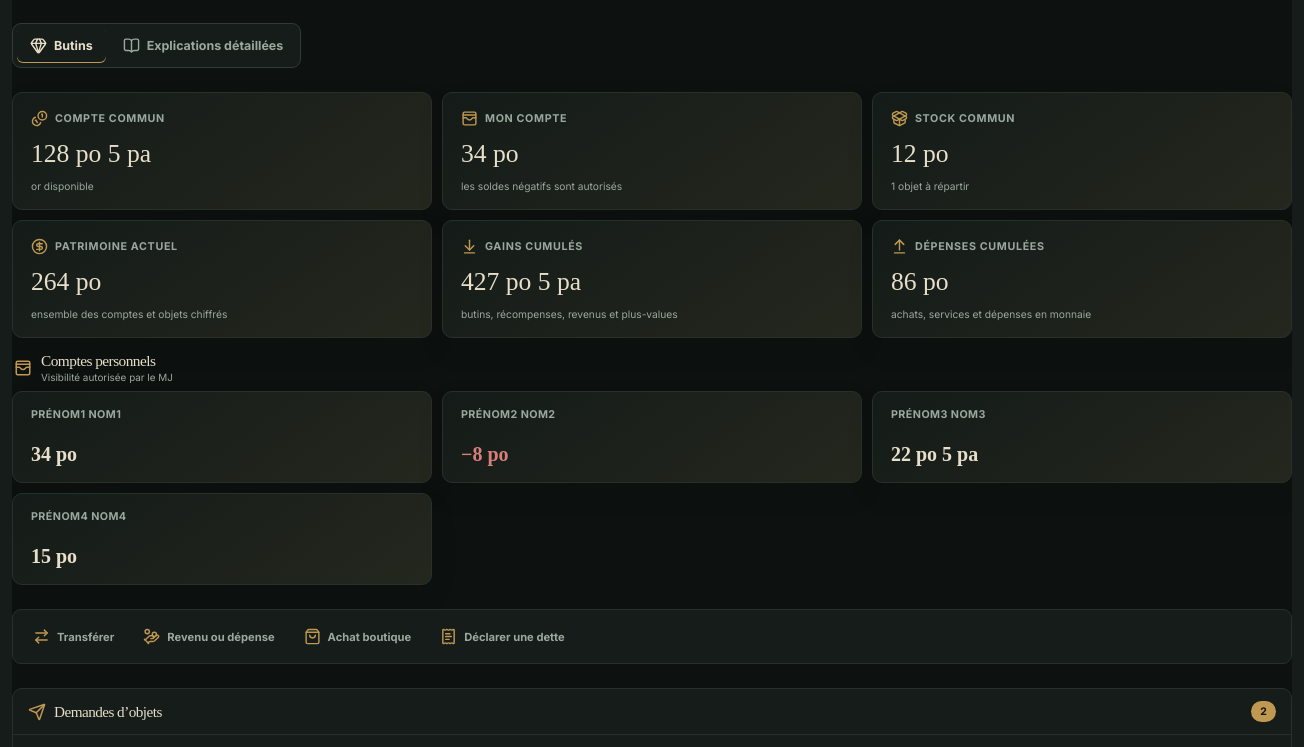
maintient le joueur connecté dans toute dette qu’il déclare
The image size is (1304, 747).
Click the button "Déclarer une dette" at (502, 636), box [429, 619, 576, 654]
(page scrolled)
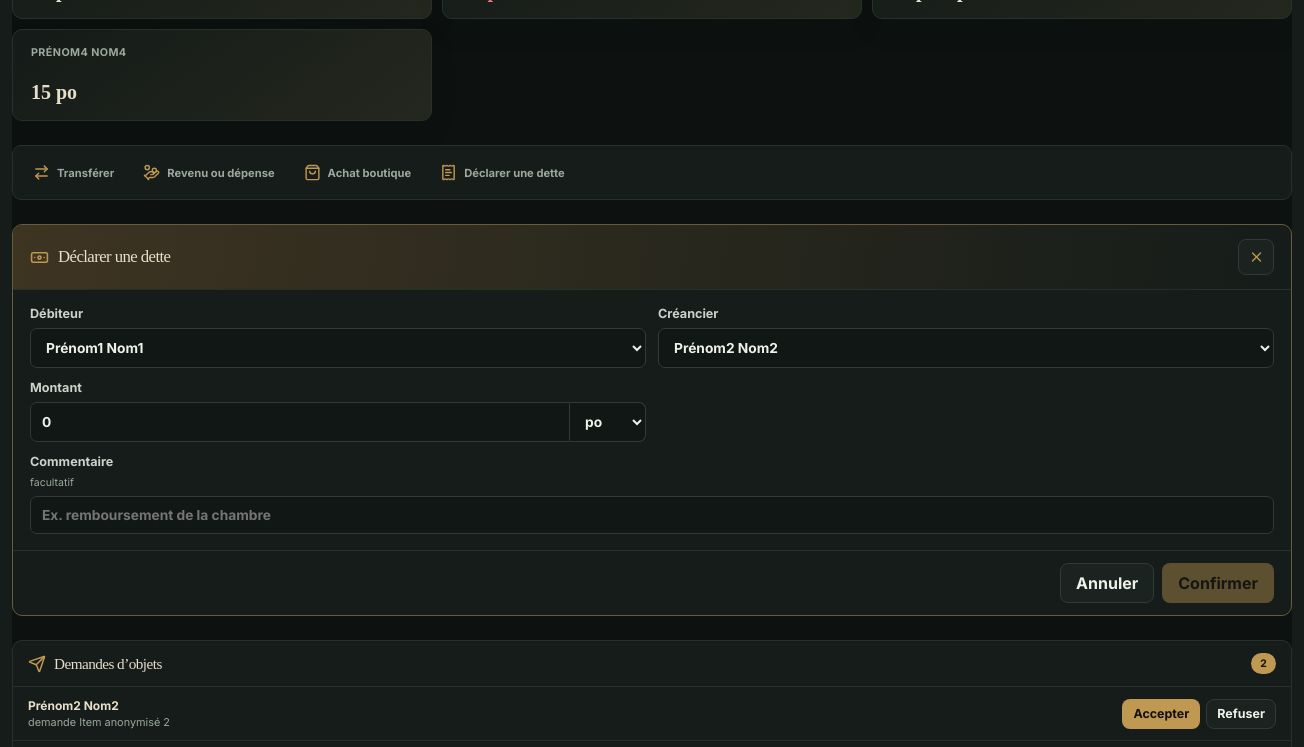
Expected: the dropdown labelled "Débiteur" shows "Prénom1 Nom1"
Select "Prénom2 Nom2" in the dropdown labelled "Débiteur" at (338, 348), box [30, 328, 646, 368]
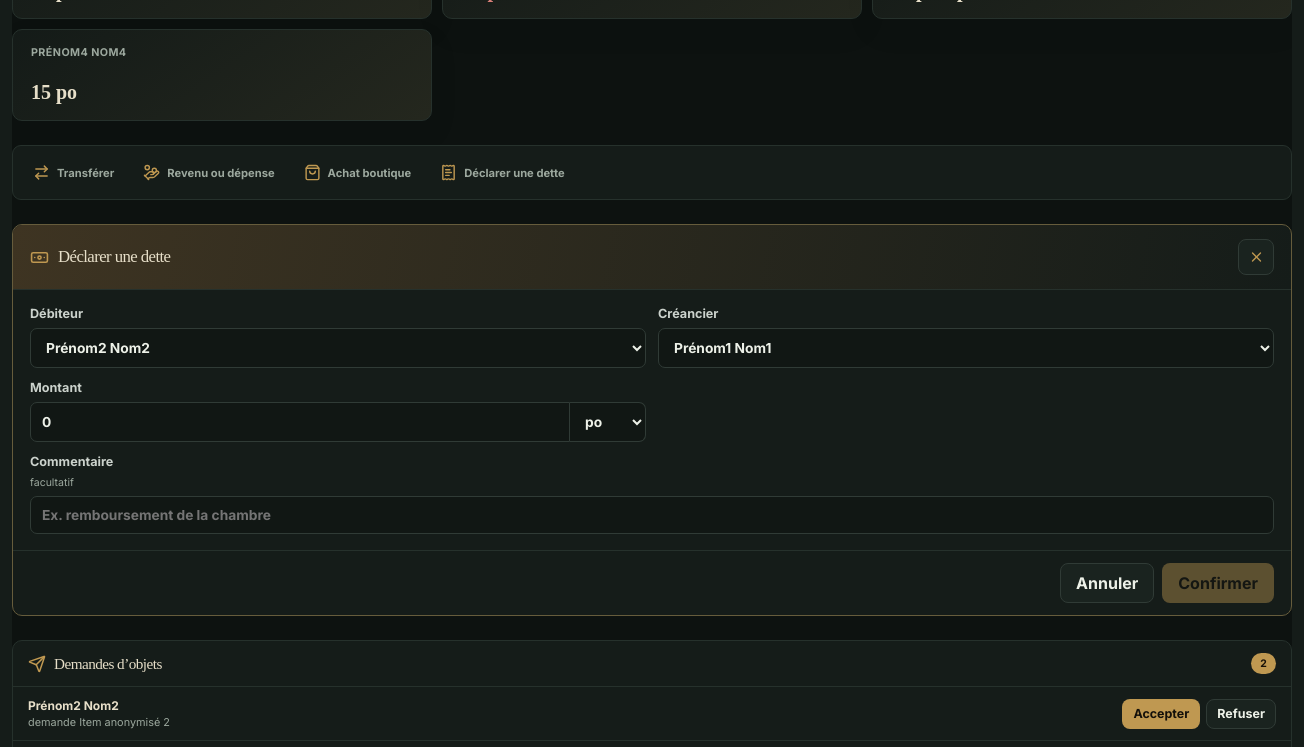
Expected: the dropdown labelled "Créancier" shows "Prénom1 Nom1", [658, 328, 1274, 368]
